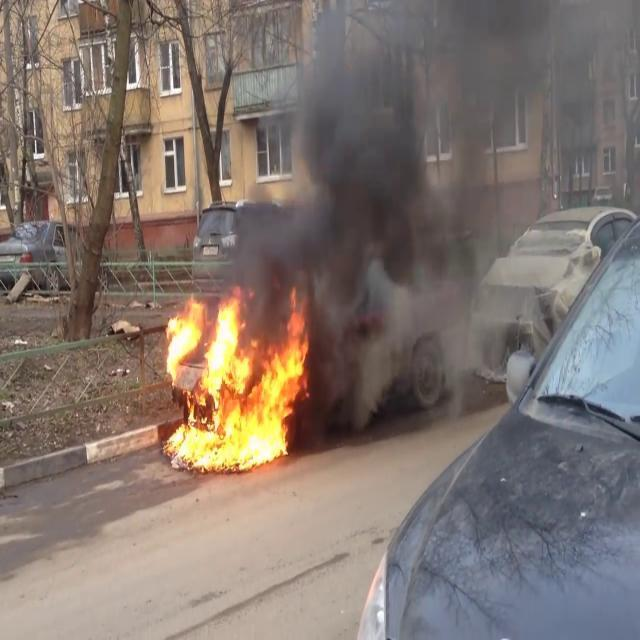Fire: (158, 284, 312, 475)
Smoke: (258, 1, 612, 436)
